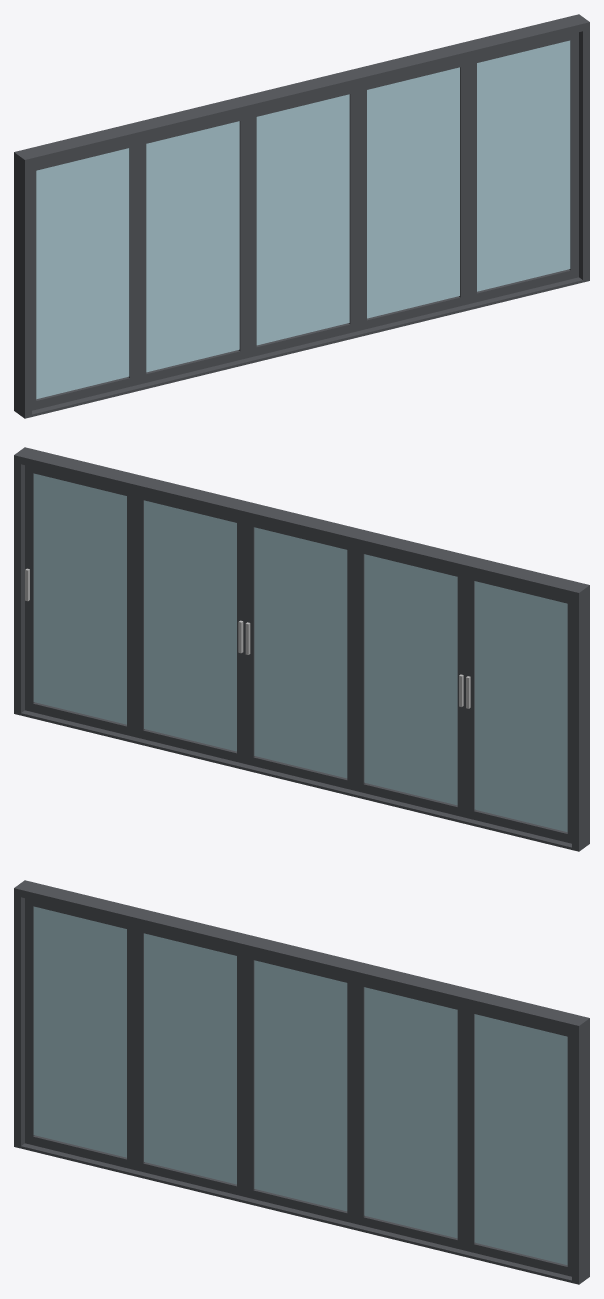
Rendered from opening.door.bifold_4800.glb.
3 views of the same model, one above another, from view 1: azimuth 30°, elevation 25°; view 2: azimuth 150°, elevation 25°; view 3: azimuth 330°, elevation 25° (orthographic).
Visible parts, largest first — view 1: glazing__glass, leaf__plastic_grey, frame__plastic_grey; view 2: glazing__glass, leaf__plastic_grey, frame__plastic_grey, ironmongery__steel_stainless; view 3: glazing__glass, leaf__plastic_grey, frame__plastic_grey.
Boxes of the visible parts, x1,y1,x2,y2 form: glazing__glass: (36,40,570,399); leaf__plastic_grey: (32,32,578,410); frame__plastic_grey: (14,14,589,418); glazing__glass: (33,473,567,832); leaf__plastic_grey: (25,465,571,843); frame__plastic_grey: (14,447,589,851); ironmongery__steel_stainless: (25,568,470,708); glazing__glass: (33,906,567,1265); leaf__plastic_grey: (25,898,571,1276); frame__plastic_grey: (14,880,589,1284).
Size of the model in its own units: 4.8 by 2.1 by 0.16.
